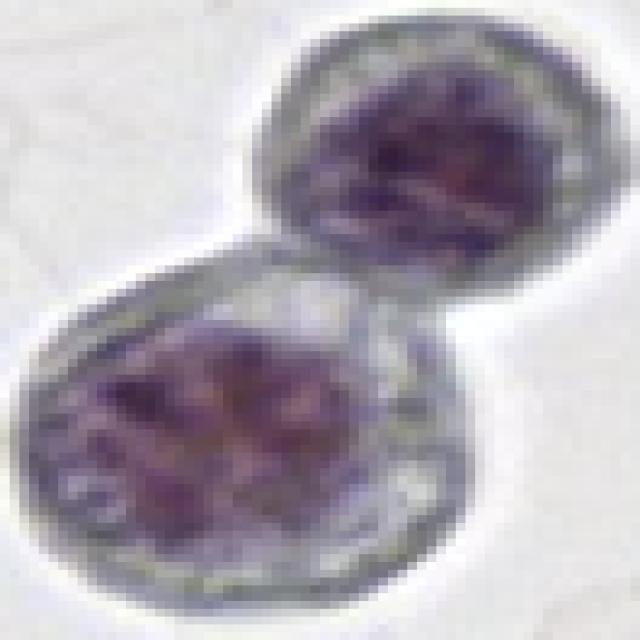cytoplasm: (0, 218, 488, 640)
nucleus: (1, 287, 414, 591), (259, 23, 595, 341)
